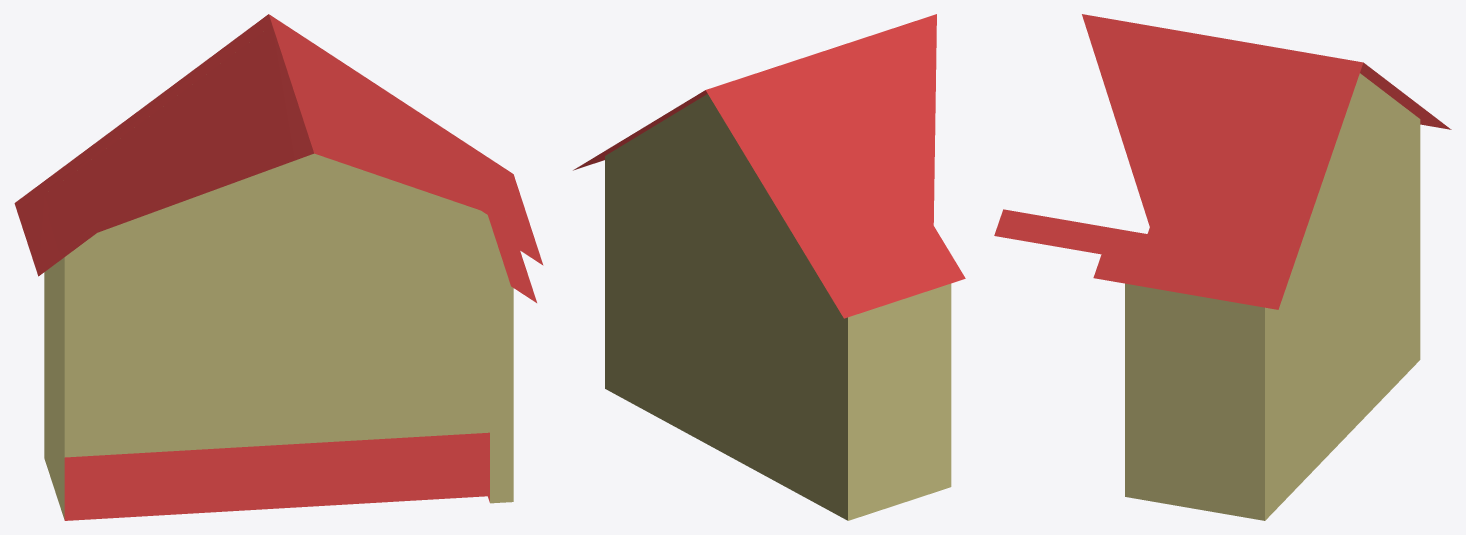
3 views of the same model, side by side, from view 1: azimuth 30°, elevation 25°; view 2: azimuth 150°, elevation 25°; view 3: azimuth 270°, elevation 25° (orthographic). The views are drawn at different scales.
Bounding box in the file's own units: 15.01 × 14.12 × 13.06.
